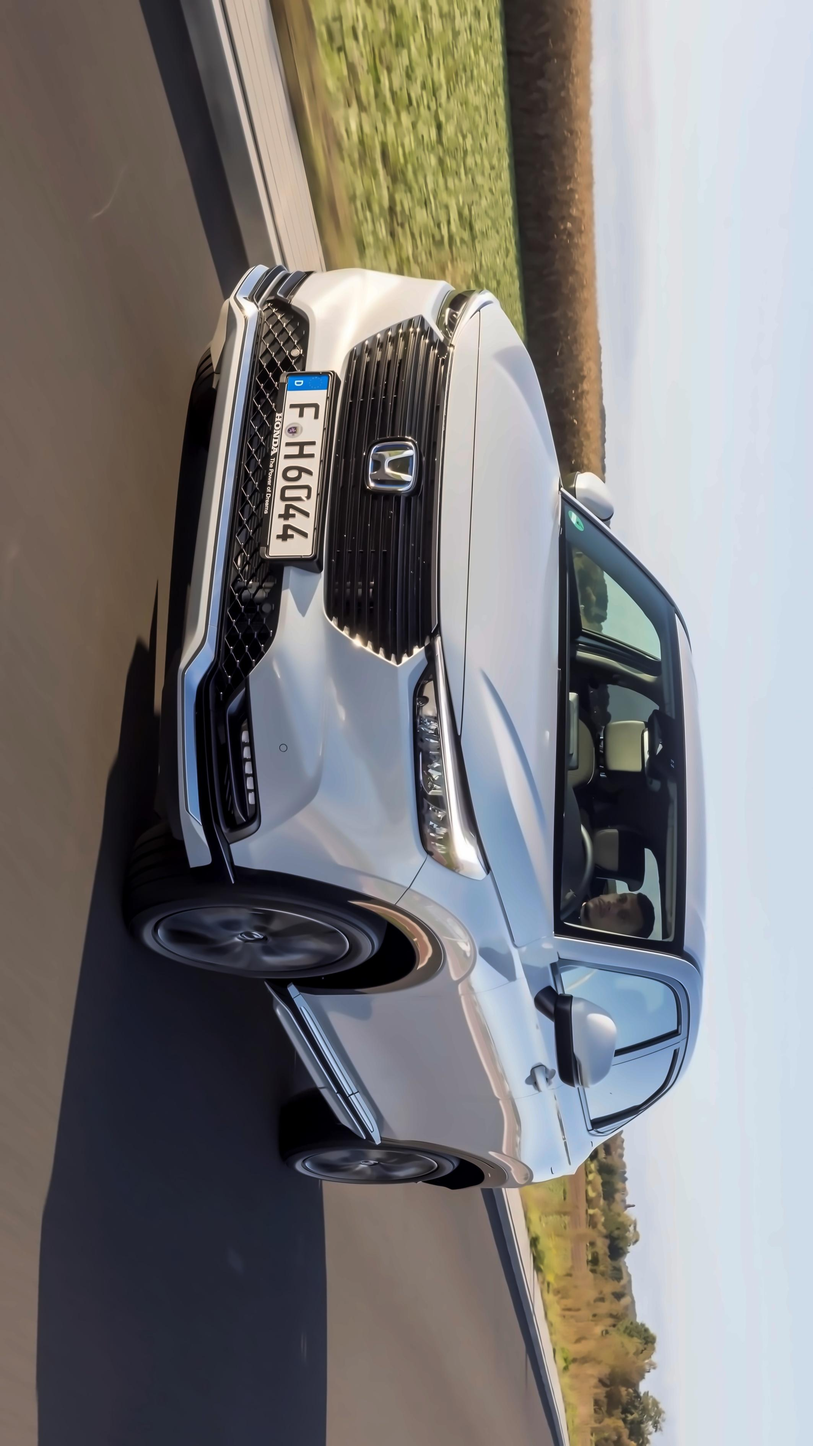Car hood: (438, 288, 570, 993)
Fender - -F-L-: (256, 832, 592, 1039)
Front bumper: (157, 250, 456, 927)
Headlight - -L-: (407, 655, 490, 884)
Passenger-s door - -F-L-: (246, 932, 717, 1104)
Passenger-s door - -R-L-: (247, 1043, 733, 1163)
Side bumper - -L-: (247, 966, 400, 1161)
Side mirror - -L-: (526, 964, 623, 1105)
